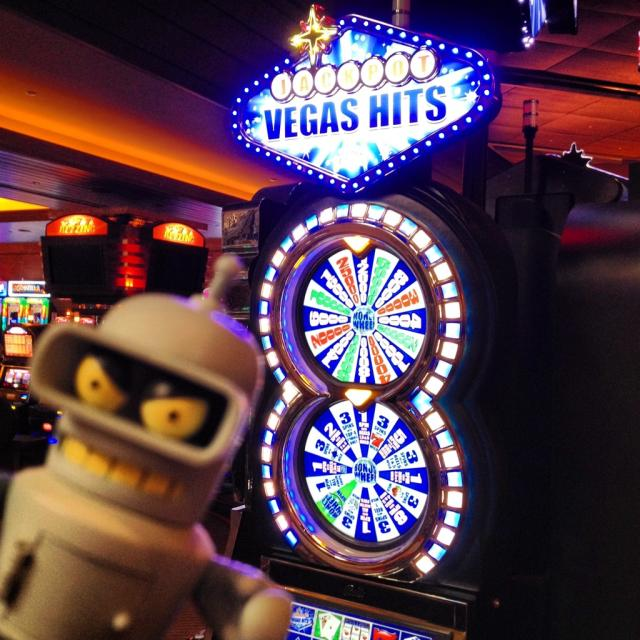Toy: (0, 254, 295, 640)
